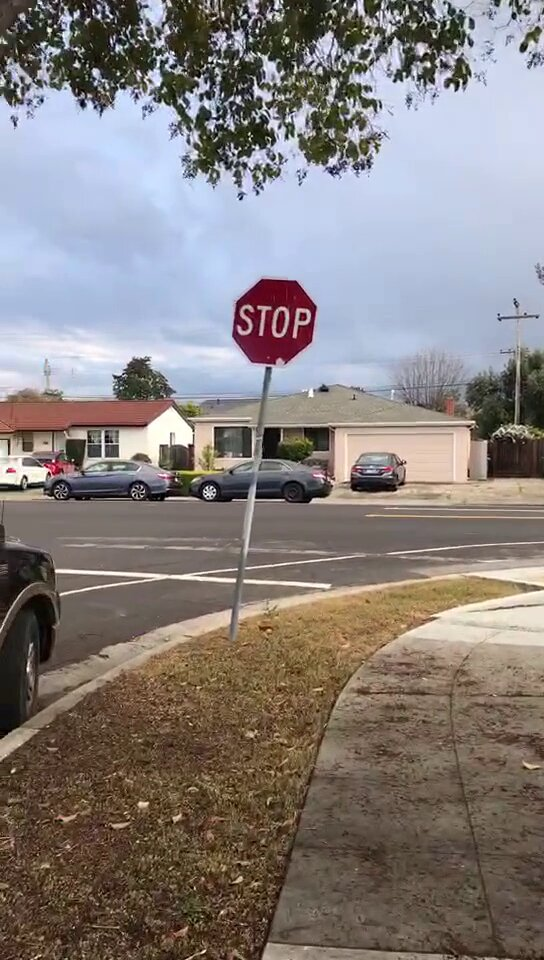stop_sign: (231, 279, 318, 365)
